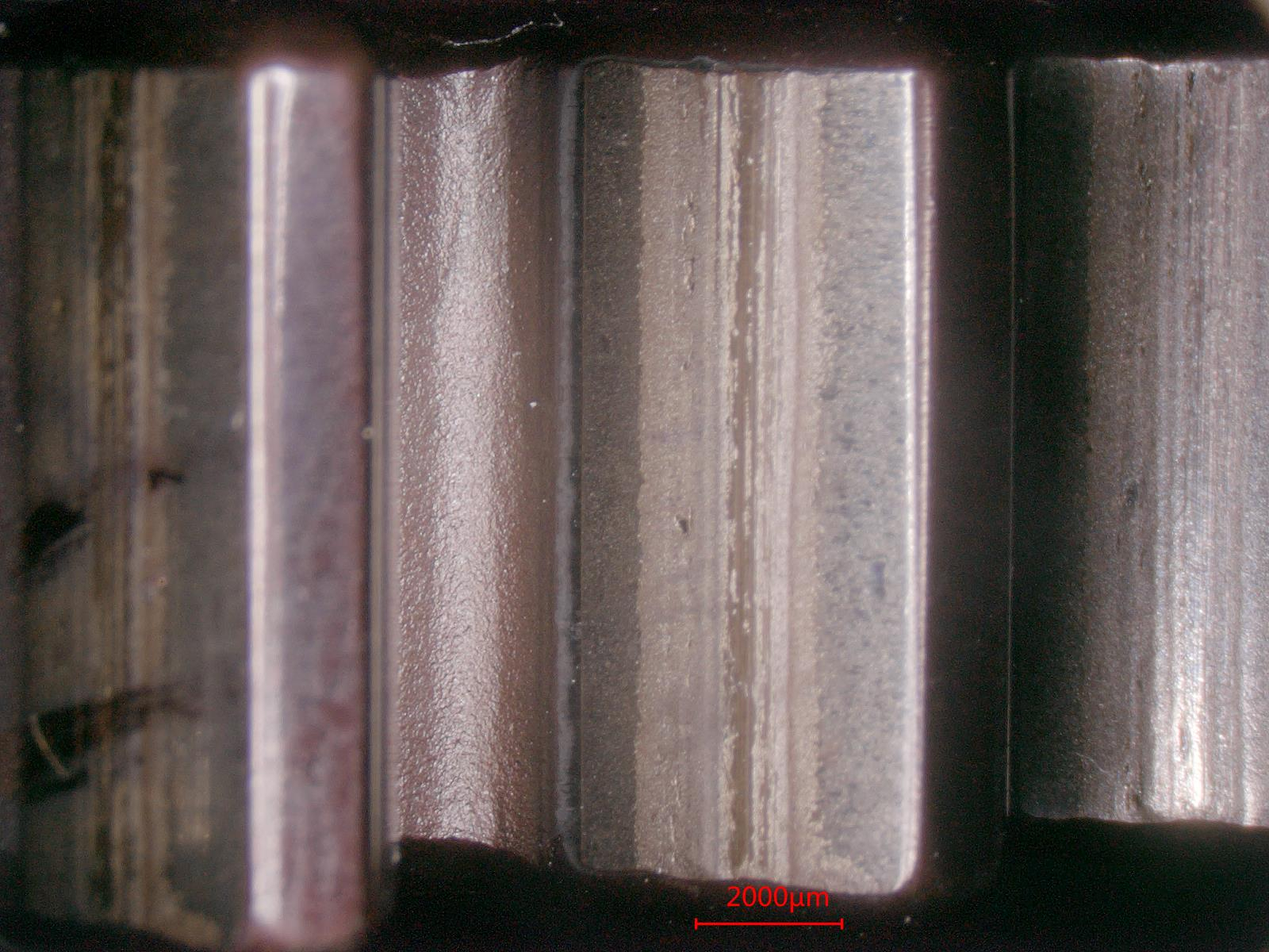Abrasion: (585, 60, 917, 888), (20, 71, 248, 939), (1022, 67, 1269, 821)
